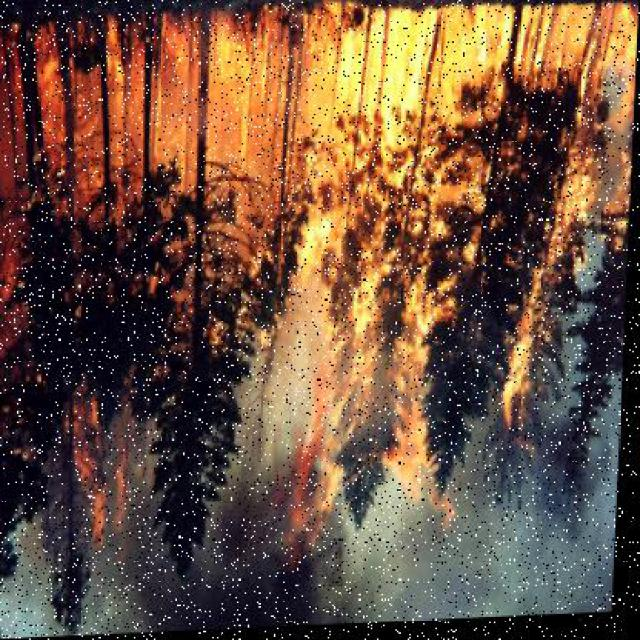fire: (86, 18, 639, 533)
